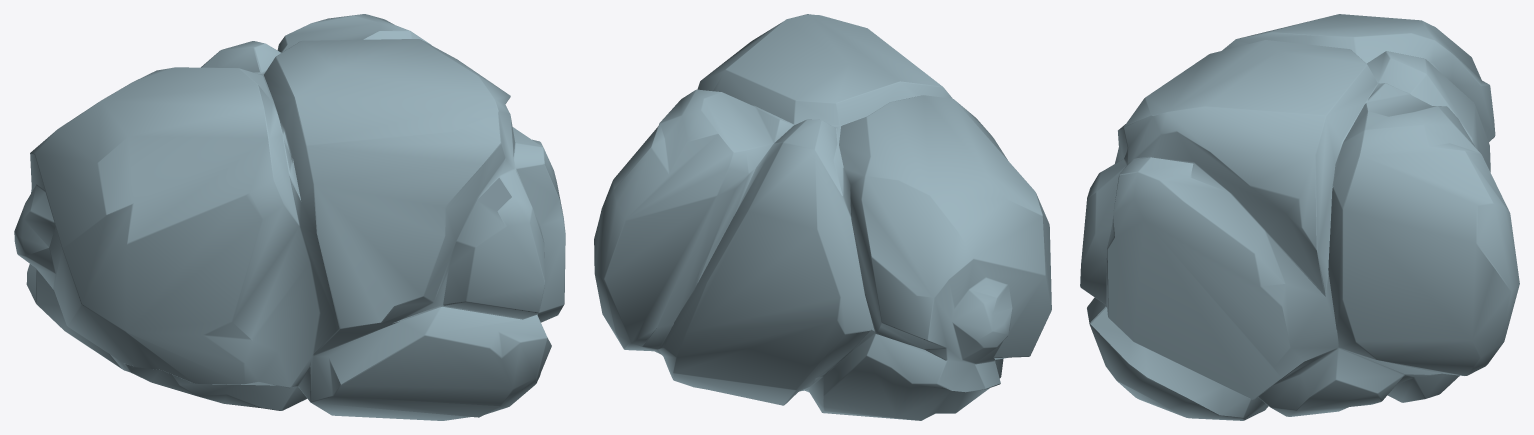
Rendered from Asteroid_02.fbx.
3 views of the same model, side by side, from view 1: azimuth 30°, elevation 25°; view 2: azimuth 150°, elevation 25°; view 3: azimuth 270°, elevation 25° (orthographic). The views are drawn at different scales.
Visible parts, largest first — view 1: Asteroid_02; view 2: Asteroid_02; view 3: Asteroid_02.
Boxes of the visible parts, x1,y1,x2,y2 form: Asteroid_02: [14, 14, 565, 420]; Asteroid_02: [594, 14, 1051, 420]; Asteroid_02: [1080, 14, 1519, 420].
Size of the model in its own units: 196 by 153 by 188.
1 material, 1 textured.
